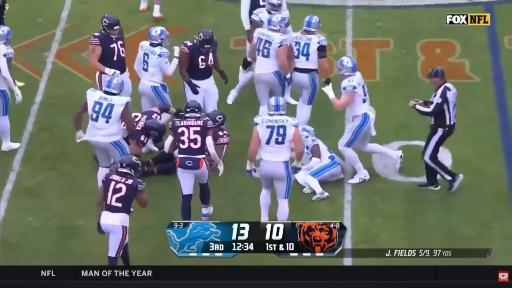Helmet: (144, 119, 166, 143), (118, 155, 141, 175), (101, 14, 120, 36), (266, 14, 287, 33), (148, 27, 169, 46), (337, 56, 357, 75), (267, 96, 287, 115), (103, 76, 123, 94), (197, 29, 214, 50), (183, 101, 202, 117), (207, 111, 226, 127), (303, 15, 321, 31), (265, 0, 283, 14), (300, 126, 315, 142), (0, 26, 12, 45)
Jersey: (86, 89, 131, 142), (101, 172, 144, 226), (254, 115, 298, 161), (254, 28, 290, 73), (90, 28, 126, 73), (172, 118, 213, 157), (135, 41, 169, 85), (181, 40, 217, 80), (292, 32, 327, 70), (341, 72, 369, 116), (128, 110, 161, 147), (303, 137, 342, 163), (213, 128, 230, 155), (132, 111, 161, 125), (248, 0, 265, 22), (280, 8, 292, 35), (0, 44, 14, 59)
Player: (322, 56, 403, 183), (246, 96, 303, 221), (74, 76, 136, 186), (227, 0, 289, 104), (170, 101, 223, 220), (96, 155, 147, 265), (292, 15, 329, 126), (251, 15, 292, 115), (179, 29, 227, 113), (227, 0, 265, 104), (135, 27, 179, 110), (295, 126, 343, 200), (89, 14, 131, 96), (124, 104, 181, 155), (0, 26, 22, 151), (126, 107, 172, 157), (207, 111, 230, 159), (207, 111, 229, 159), (153, 0, 163, 22)
